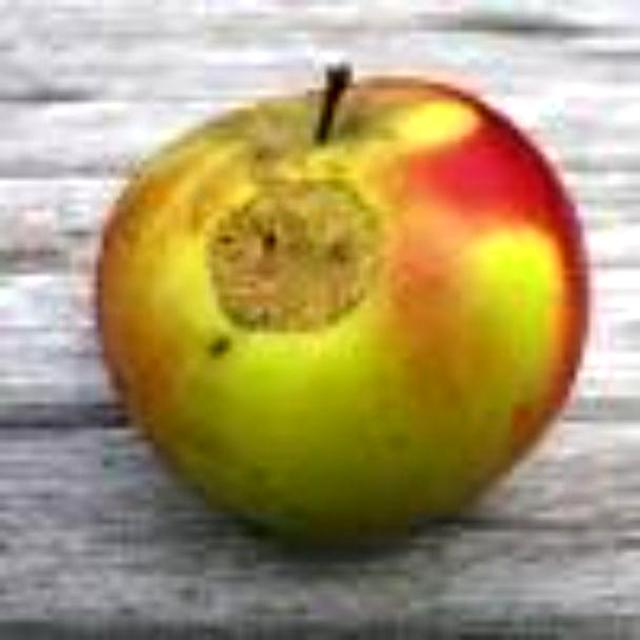SCAB: (110, 30, 576, 608)
